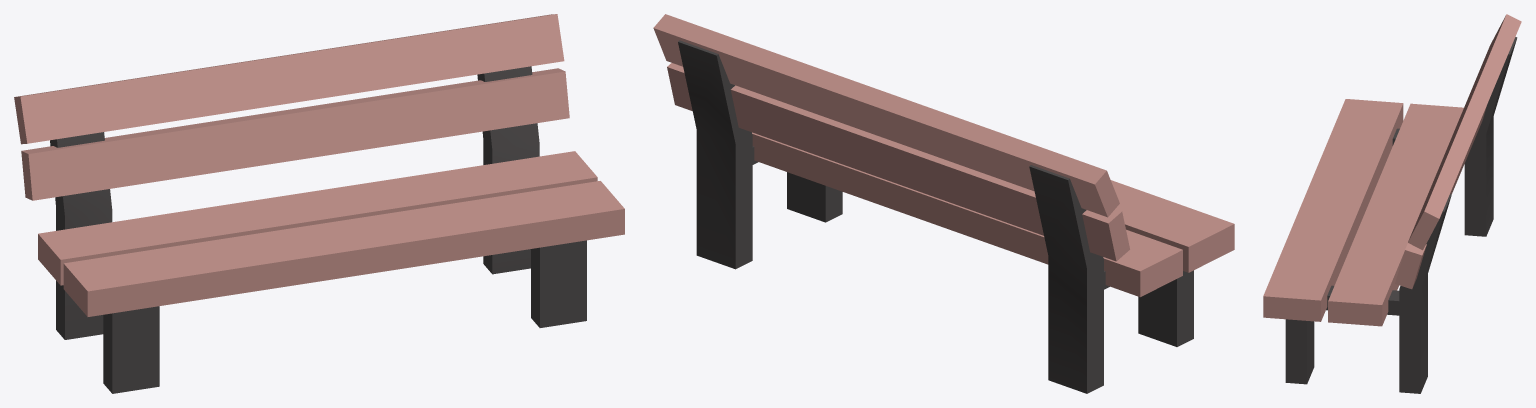
Rendered from park-bench-transformed.glb.
3 renders of one model, left to right at view 1: azimuth 30°, elevation 25°; view 2: azimuth 150°, elevation 25°; view 3: azimuth 270°, elevation 25°, orthographic. The views are drawn at different scales.
Visible parts, largest first — view 1: Merged Geometry.041, Merged Geometry 2.010; view 2: Merged Geometry.041, Merged Geometry 2.010; view 3: Merged Geometry.041, Merged Geometry 2.010.
Part boxes in pixels (x1,y1,x2,y2): Merged Geometry.041: (14,14,624,316); Merged Geometry 2.010: (50,66,586,393); Merged Geometry.041: (653,14,1234,297); Merged Geometry 2.010: (678,40,1193,393); Merged Geometry.041: (1263,14,1521,326); Merged Geometry 2.010: (1285,37,1517,393).
Size of the model in its own units: 1.74 by 0.7484 by 0.9028.
